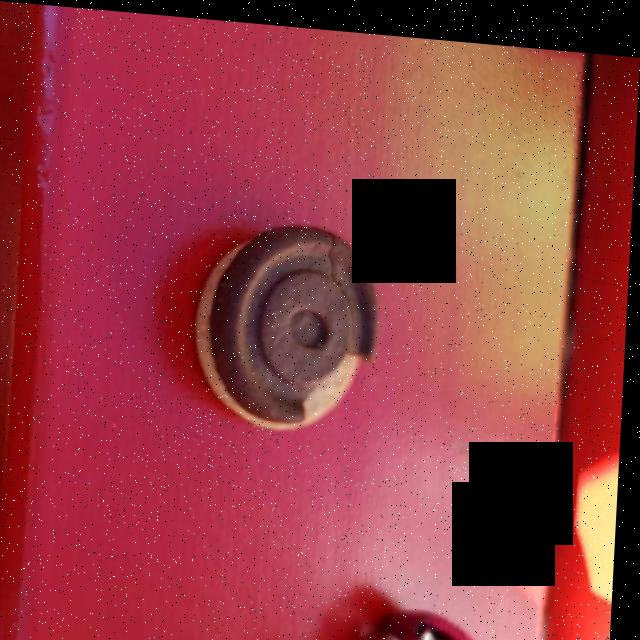chocolate-cookies: (185, 204, 384, 421)
